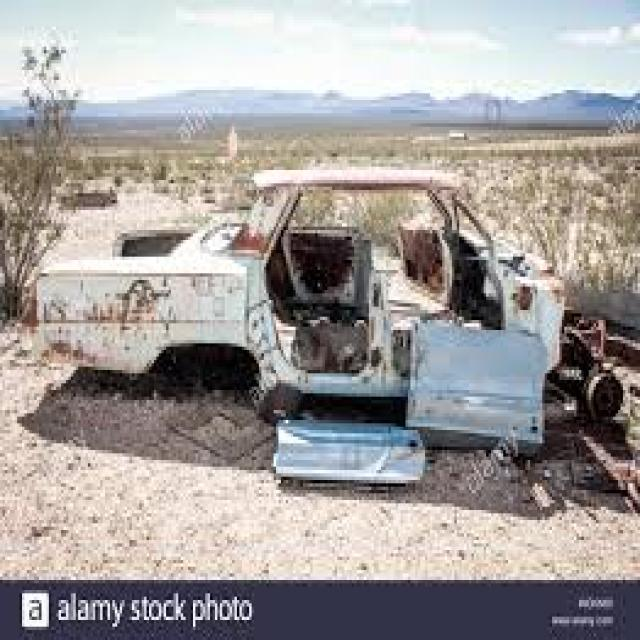damaged-door: (268, 182, 378, 392)
